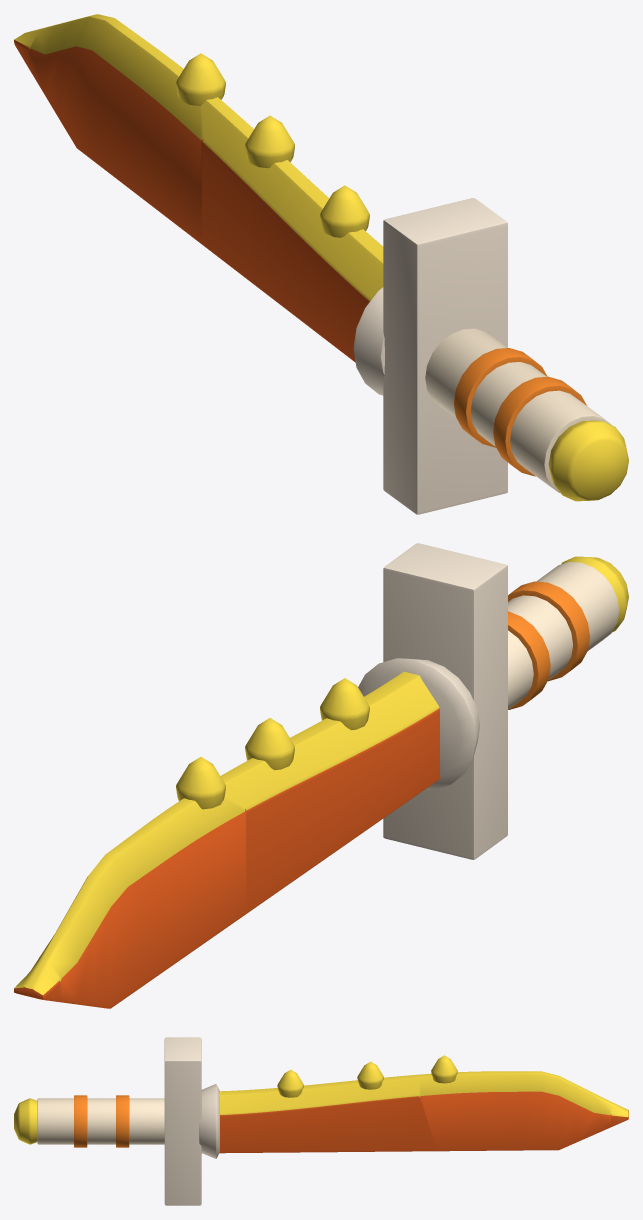
The model's file is Sword_MagmaFalchion.glb.
3 renders of one model, top to bottom at view 1: azimuth 30°, elevation 25°; view 2: azimuth 150°, elevation 25°; view 3: azimuth 270°, elevation 25°, orthographic. The views are drawn at different scales.
Parts seen in each view (by area): view 1: Sword_MagmaFalchion; view 2: Sword_MagmaFalchion; view 3: Sword_MagmaFalchion.
Boxes of the visible parts, x1,y1,x2,y2 form: Sword_MagmaFalchion: [14, 14, 628, 514]; Sword_MagmaFalchion: [14, 543, 628, 1008]; Sword_MagmaFalchion: [14, 1037, 628, 1205].
Bounding box in the file's own units: 0.1229 × 0.26 × 1.
1 material, 1 textured.
